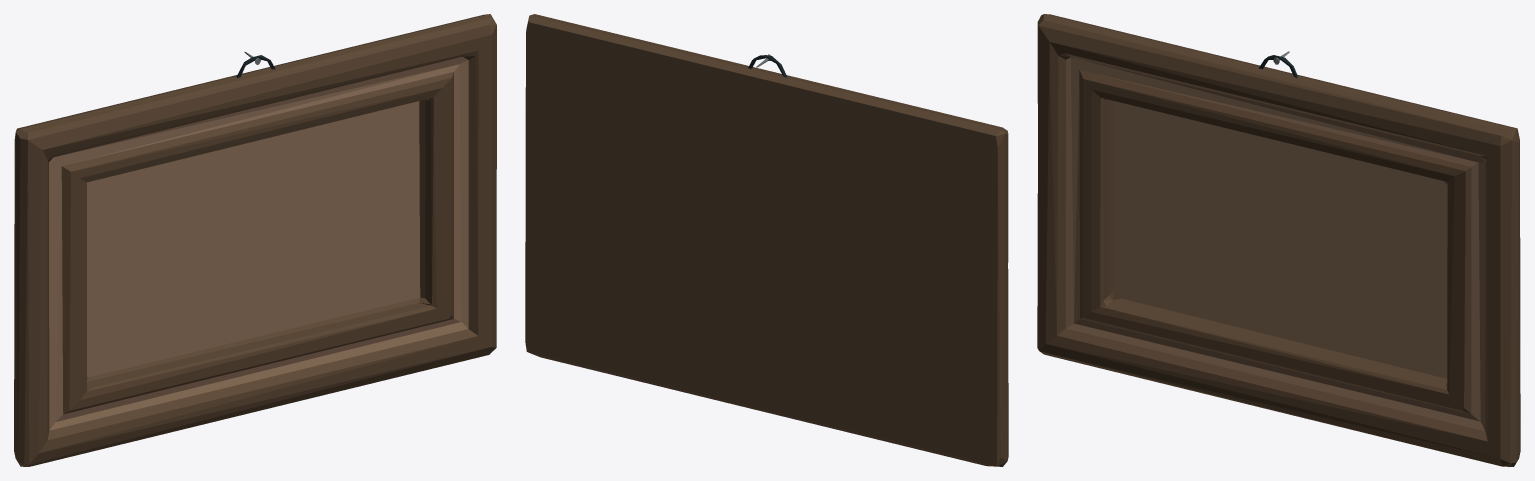
File: PictureFrame.fbx
The picture shows the model from 3 angles, left to right: view 1: azimuth 30°, elevation 25°; view 2: azimuth 150°, elevation 25°; view 3: azimuth 330°, elevation 25°; orthographic projection.
Parts seen in each view (by area): view 1: PictureFrameLowPoly; view 2: PictureFrameLowPoly; view 3: PictureFrameLowPoly.
Boxes of the visible parts, x1=… form: PictureFrameLowPoly: x1=14, y1=14, x2=496, y2=466; PictureFrameLowPoly: x1=525, y1=14, x2=1008, y2=466; PictureFrameLowPoly: x1=1037, y1=14, x2=1520, y2=466.
Bounding box in the file's own units: 29.94 × 21.17 × 1.99.
